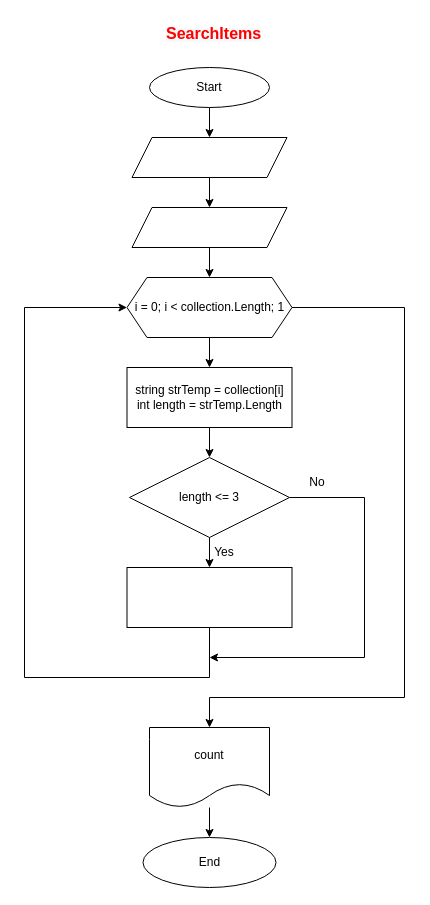
Some shapes in this 430 by 905 pixel diagram are drawn without their labels. Here are the shapes that lost their labels. From the top down, the centre of each, then its label:
At point (209, 157): "string[] collection".
At point (209, 227): "int count = 0".
At point (209, 597): "count++".
